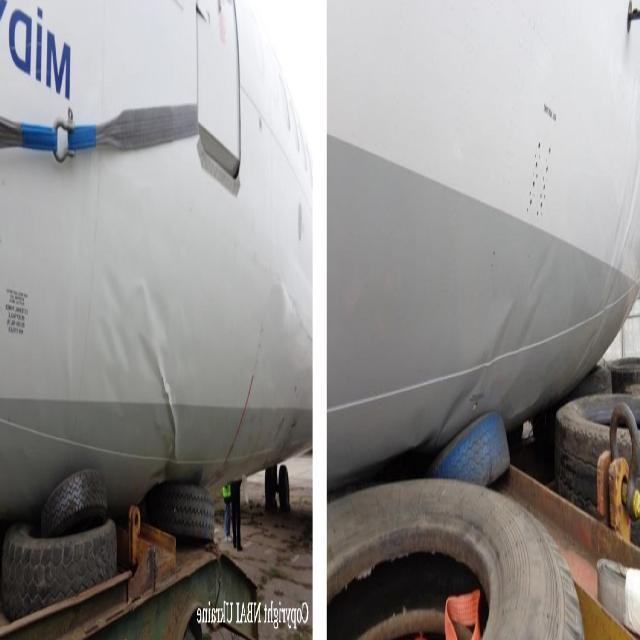dent: (440, 233, 562, 441), (104, 268, 182, 488)
